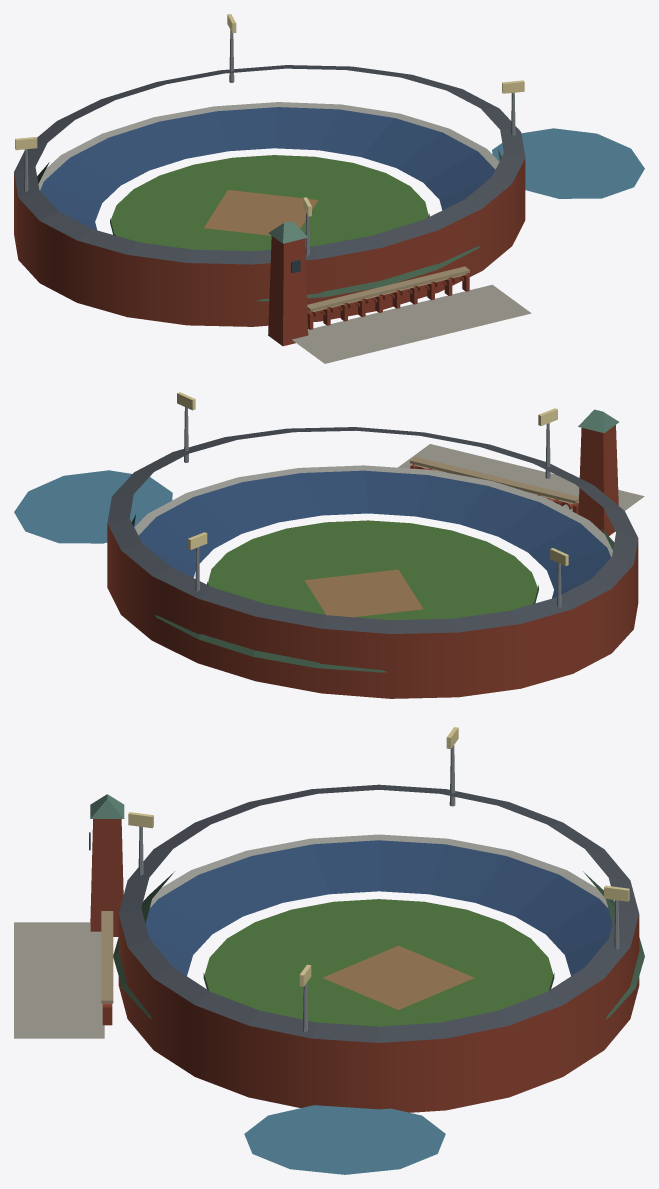
File: mobile.glb
The picture shows the model from 3 angles, top to bottom: view 1: azimuth 30°, elevation 25°; view 2: azimuth 150°, elevation 25°; view 3: azimuth 270°, elevation 25°; orthographic projection. The views are drawn at different scales.
Parts seen in each view (by area): view 1: lm.china-basin-ballpark; view 2: lm.china-basin-ballpark; view 3: lm.china-basin-ballpark.
Boxes of the visible parts, left/top/right/bottom form: lm.china-basin-ballpark: left=14, top=14, right=644, bottom=363; lm.china-basin-ballpark: left=14, top=392, right=644, bottom=698; lm.china-basin-ballpark: left=14, top=727, right=644, bottom=1174.
Size of the model in its own units: 271 by 52.4 by 223.
